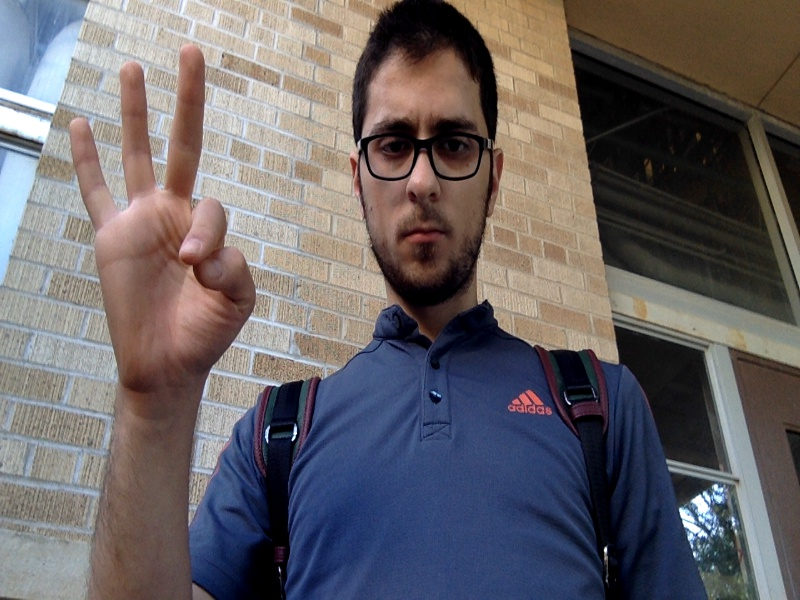3-hand: (71, 46, 259, 403)
